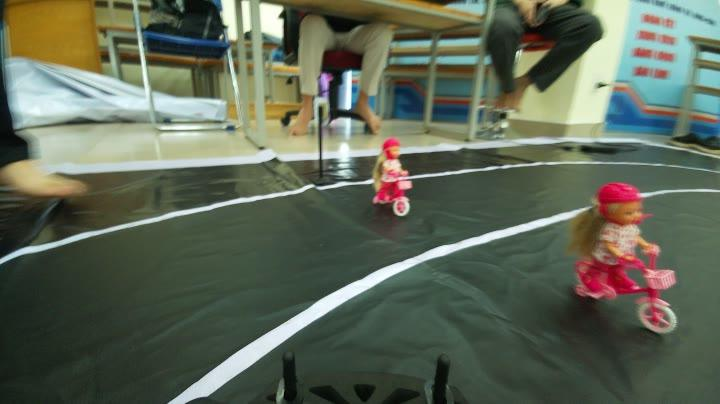pedestrian: (564, 181, 688, 340), (360, 138, 428, 229)
